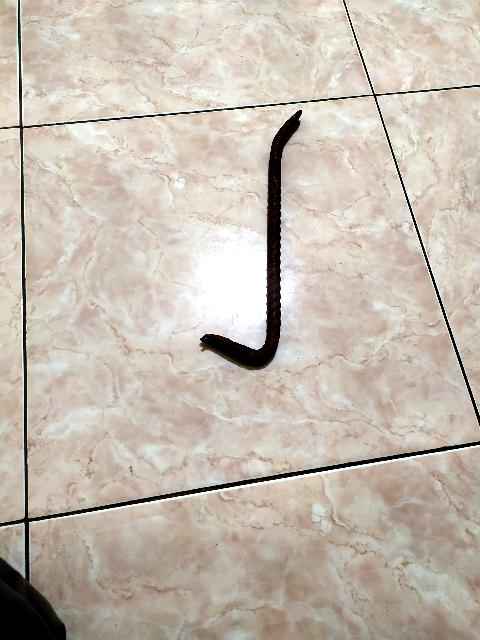crow bar: (195, 102, 312, 370)
